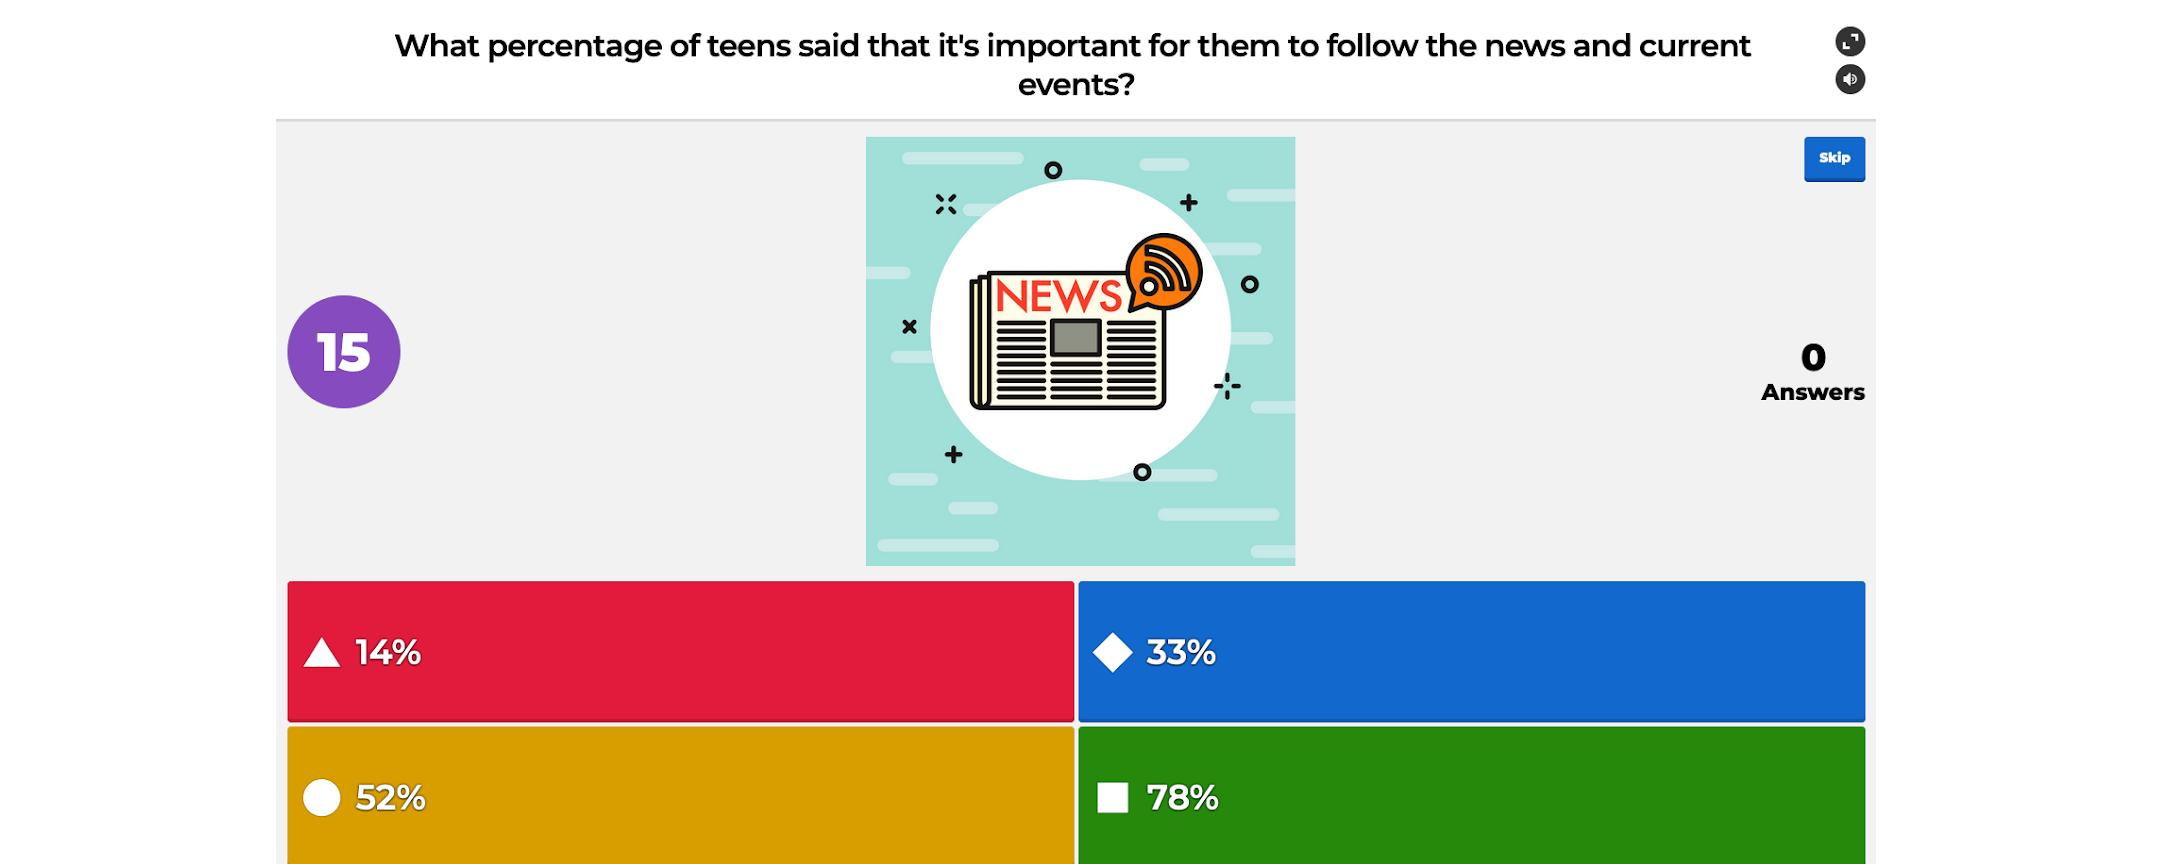answer_blue: (1078, 584, 1860, 719)
answer_green: (1080, 731, 1863, 860)
answer_red: (287, 584, 1069, 721)
answer_yellow: (287, 731, 1069, 864)
question_box: (274, 3, 1805, 119)
